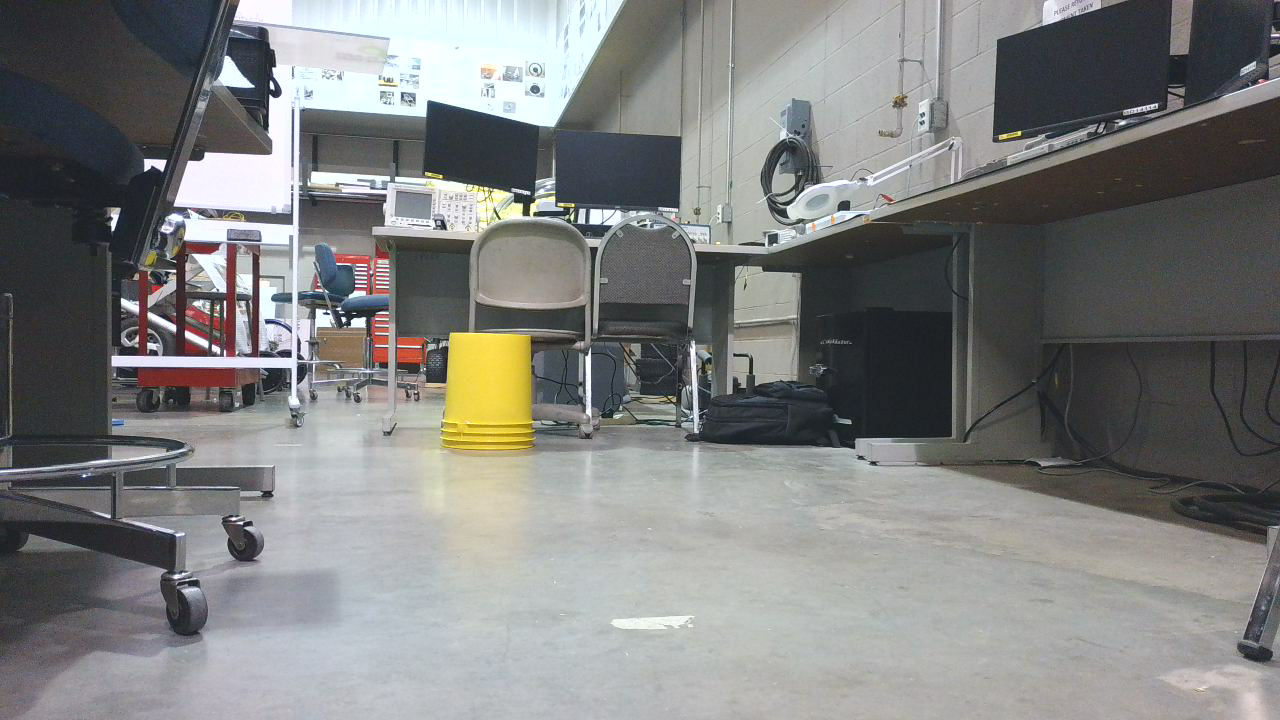yellow_bucket: (444, 335, 543, 455)
